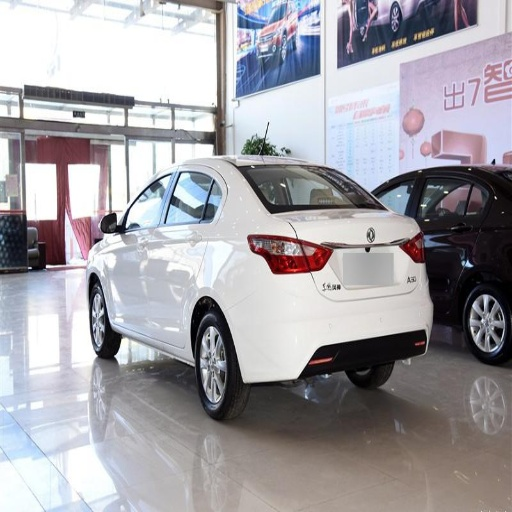back_bumper: (226, 274, 434, 386)
back_glass: (237, 164, 385, 212)
back_left_door: (149, 169, 215, 344)
